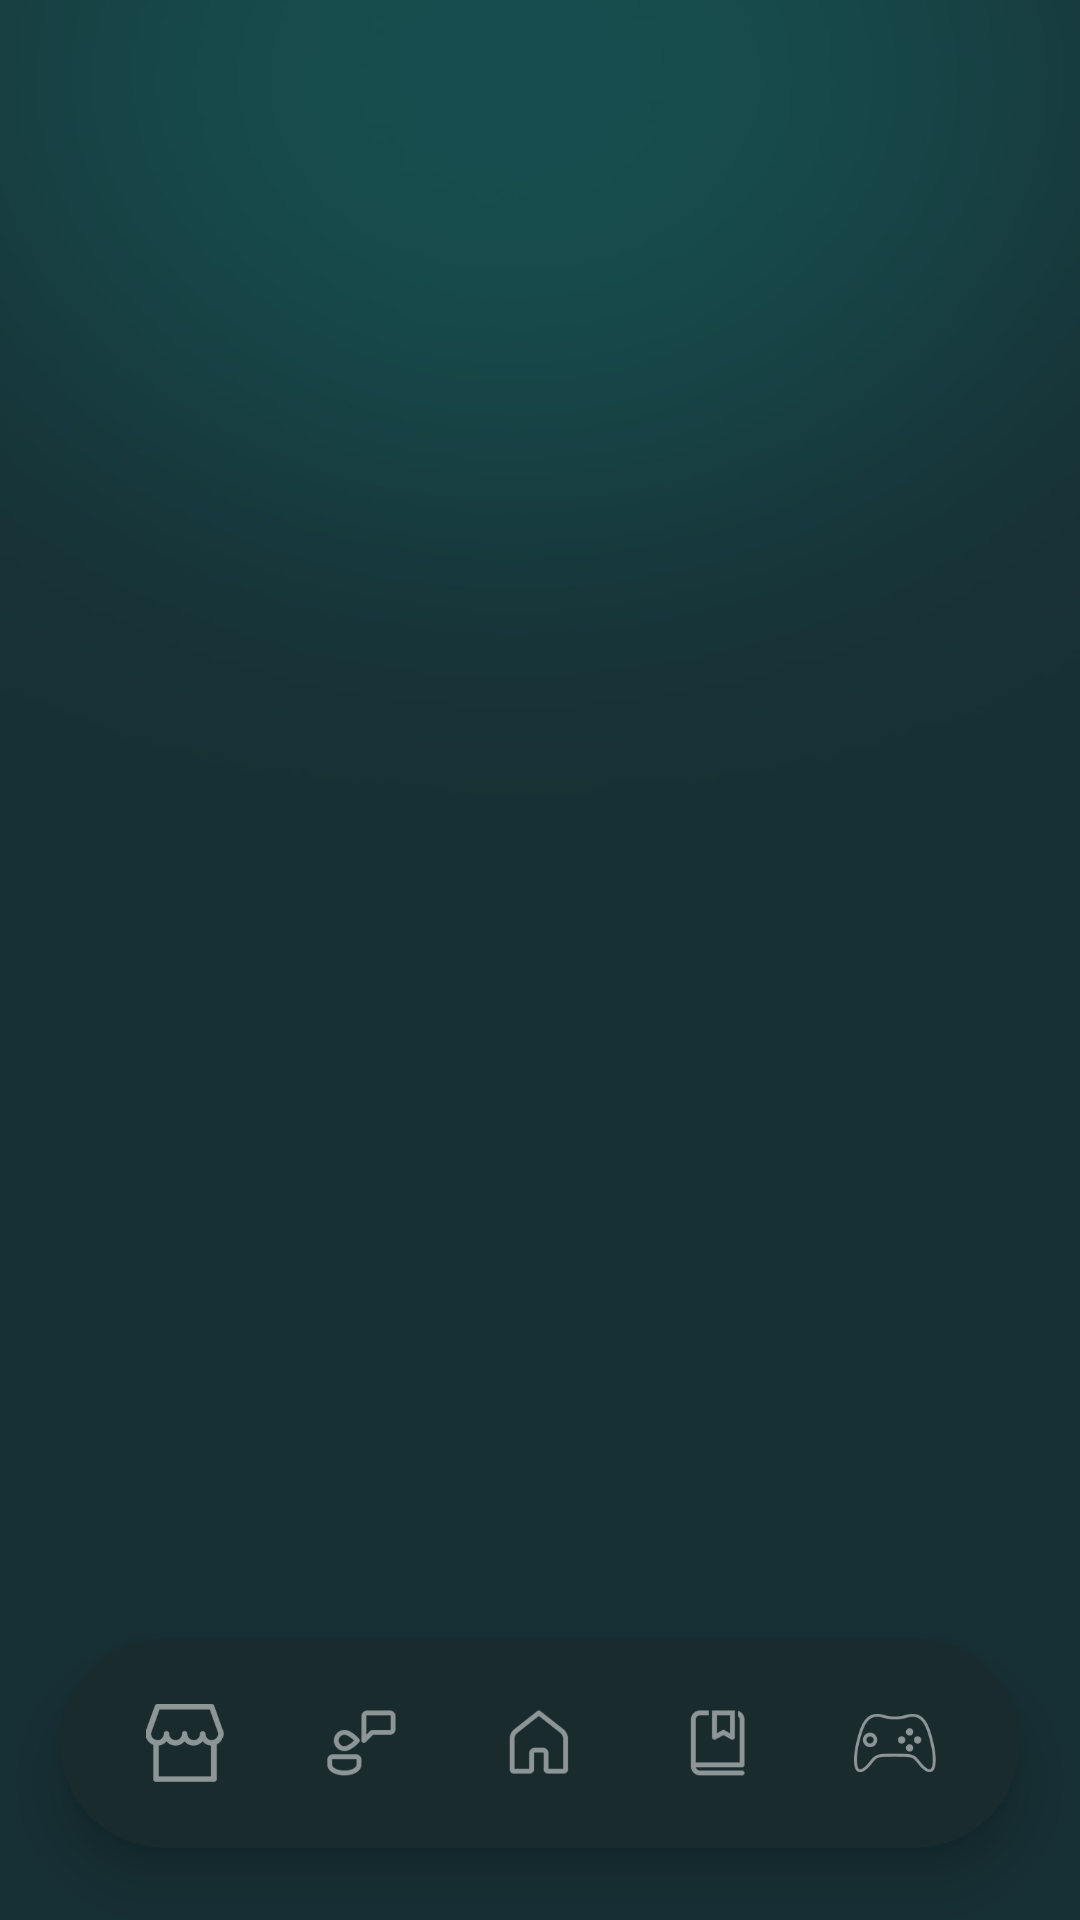

Named icons in this screenshot (1080*1920) and their bounding boxes, (x1, y1, x2, y2):
community: (327, 1710, 396, 1776)
home: (509, 1710, 568, 1774)
joystick: (854, 1714, 936, 1772)
learning: (691, 1710, 745, 1776)
shop: (146, 1704, 224, 1782)
